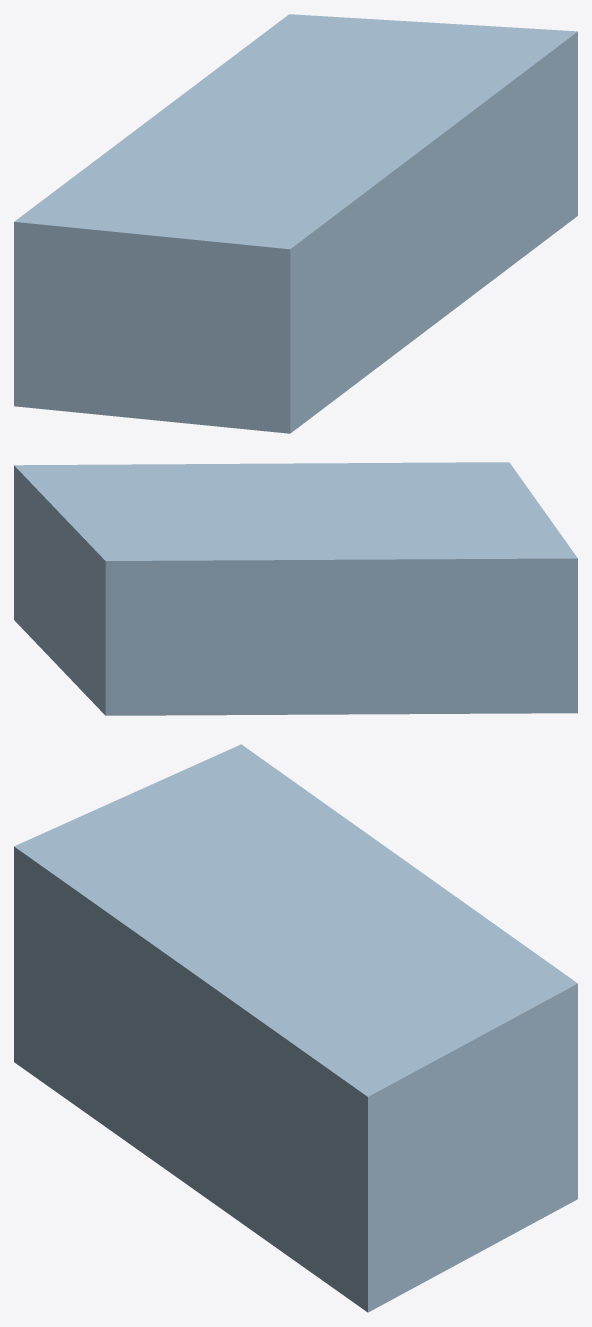
The model's file is njupt_k_dormitory_04.glb.
3 renders of one model, top to bottom at view 1: azimuth 30°, elevation 25°; view 2: azimuth 150°, elevation 25°; view 3: azimuth 270°, elevation 25°, orthographic. The views are drawn at different scales.
Parts seen in each view (by area): view 1: njupt_k_dormitory_04; view 2: njupt_k_dormitory_04; view 3: njupt_k_dormitory_04.
Part boxes in pixels (<box>): njupt_k_dormitory_04: <box>14,14,577,433</box>; njupt_k_dormitory_04: <box>14,462,577,715</box>; njupt_k_dormitory_04: <box>14,744,577,1312</box>.
Bounding box in the file's own units: 63.48 × 18.1 × 42.89.
